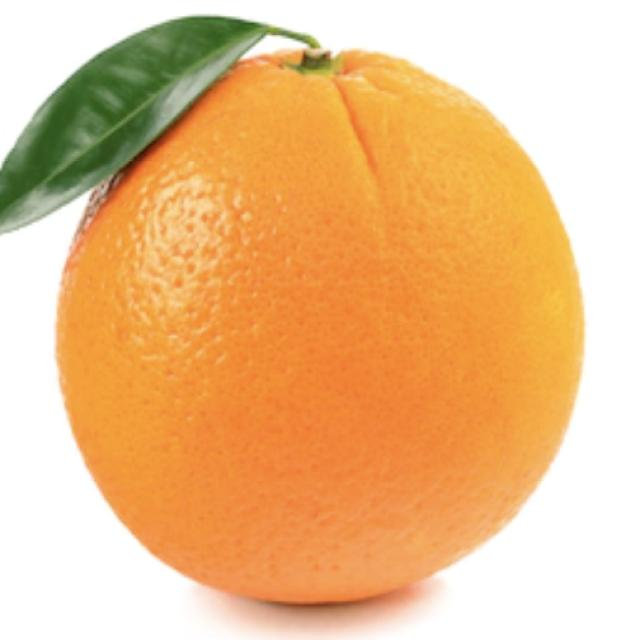orange: (54, 37, 594, 616)
